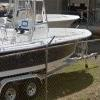Boat: (1, 10, 91, 92)
